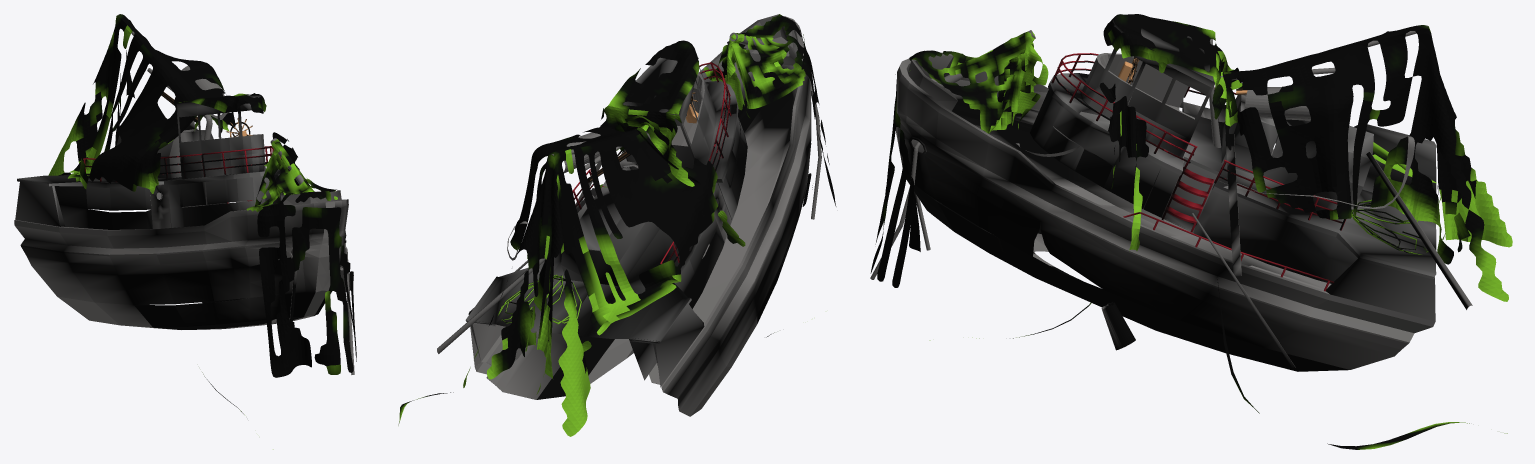
File: herkules.glb
The picture shows the model from 3 angles, left to right: view 1: azimuth 30°, elevation 25°; view 2: azimuth 150°, elevation 25°; view 3: azimuth 270°, elevation 25°; orthographic projection. The views are drawn at different scales.
Visible parts, largest first — view 1: Rumpf, Schiffsdeck, Muschelbewuchs_001, Muschelbewuchs_002, Muschelbewuchs_003, Muschelbewuchs, Reling_002, Tuer, Rumpf_001; view 2: Muschelbewuchs_001, Rumpf, Schiffsdeck, Muschelbewuchs, Muschelbewuchs_003, Reling_002, Rumpf_001, Cockpit, Muschelbewuchs_002, Schutt2, Seil, Ankerseil; view 3: Rumpf, Schiffsdeck, Muschelbewuchs_001, Muschelbewuchs, Muschelbewuchs_003, Muschelbewuchs_002, Reling_002, Cockpit, Schutt, Rumpf_001, Schutt2, Treppe (+5 smaller).
Part boxes in pixels (x1,y1,x2,y2): Rumpf: (14,199,348,329); Schiffsdeck: (15,95,286,229); Muschelbewuchs_001: (48,14,237,193); Muschelbewuchs_002: (257,204,356,377); Muschelbewuchs_003: (246,139,337,211); Muschelbewuchs: (179,93,299,194); Reling_002: (83,146,280,182); Tuer: (150,184,170,228); Rumpf_001: (280,190,341,205); Muschelbewuchs_001: (463,108,717,436); Rumpf: (475,16,812,416); Schiffsdeck: (465,49,747,387); Muschelbewuchs: (600,40,745,246); Muschelbewuchs_003: (704,14,806,118); Reling_002: (572,62,731,264); Rumpf_001: (727,14,797,65); Cockpit: (649,73,704,146); Muschelbewuchs_002: (801,34,836,206); Schutt2: (437,258,546,353); Seil: (498,274,581,324); Ankerseil: (811,88,821,219); Rumpf: (895,58,1435,371); Schiffsdeck: (1030,19,1436,321); Muschelbewuchs_001: (1213,25,1512,301); Muschelbewuchs: (1099,14,1242,250); Muschelbewuchs_003: (909,31,1048,133); Muschelbewuchs_002: (870,74,920,287); Reling_002: (1051,53,1346,230); Cockpit: (1096,53,1194,119); Schutt: (1225,133,1241,276); Rumpf_001: (908,52,957,110); Schutt2: (1366,152,1472,309); Treppe: (1161,167,1214,232).
Bounding box in the file's own units: 12.41 × 13.62 × 22.62.
